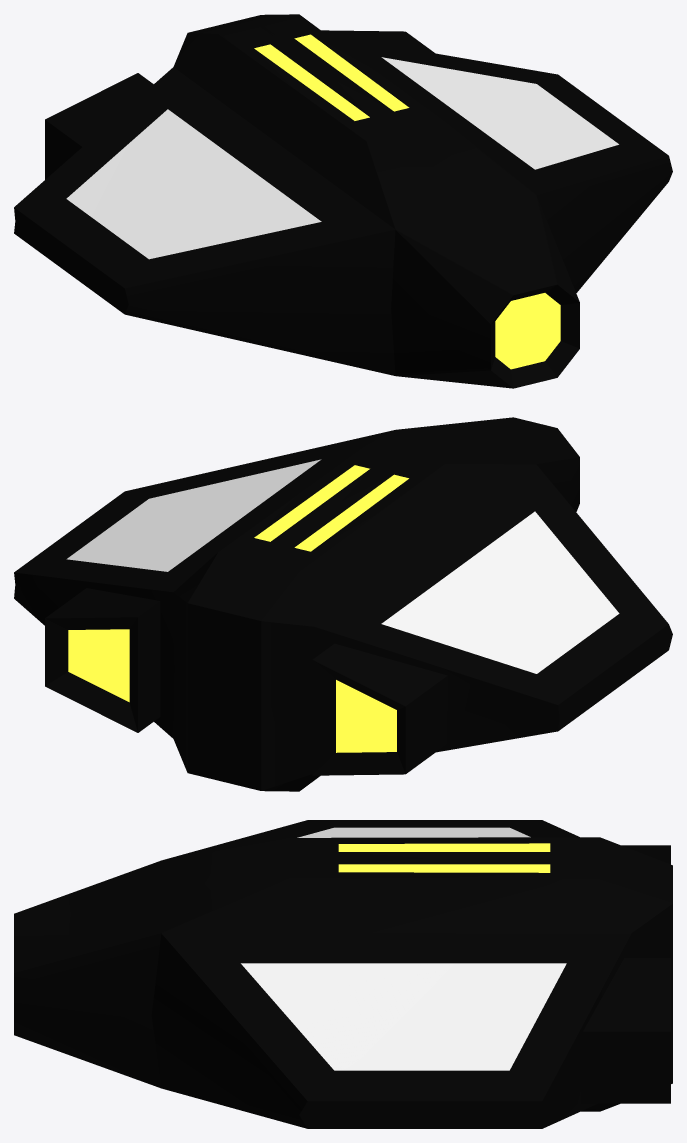
The model's file is 01_ship_drone_hemnok.glb.
3 views of the same model, one above another, from view 1: azimuth 30°, elevation 25°; view 2: azimuth 150°, elevation 25°; view 3: azimuth 270°, elevation 25° (orthographic). The views are drawn at different scales.
Visible parts, largest first — view 1: 01_ship_drone_hemnok; view 2: 01_ship_drone_hemnok; view 3: 01_ship_drone_hemnok.
Boxes of the visible parts, x1,y1,x2,y2 form: 01_ship_drone_hemnok: (14, 14, 672, 388); 01_ship_drone_hemnok: (14, 417, 672, 791); 01_ship_drone_hemnok: (14, 820, 672, 1128).
Size of the model in its own units: 0.9762 by 0.3766 by 0.9667.
